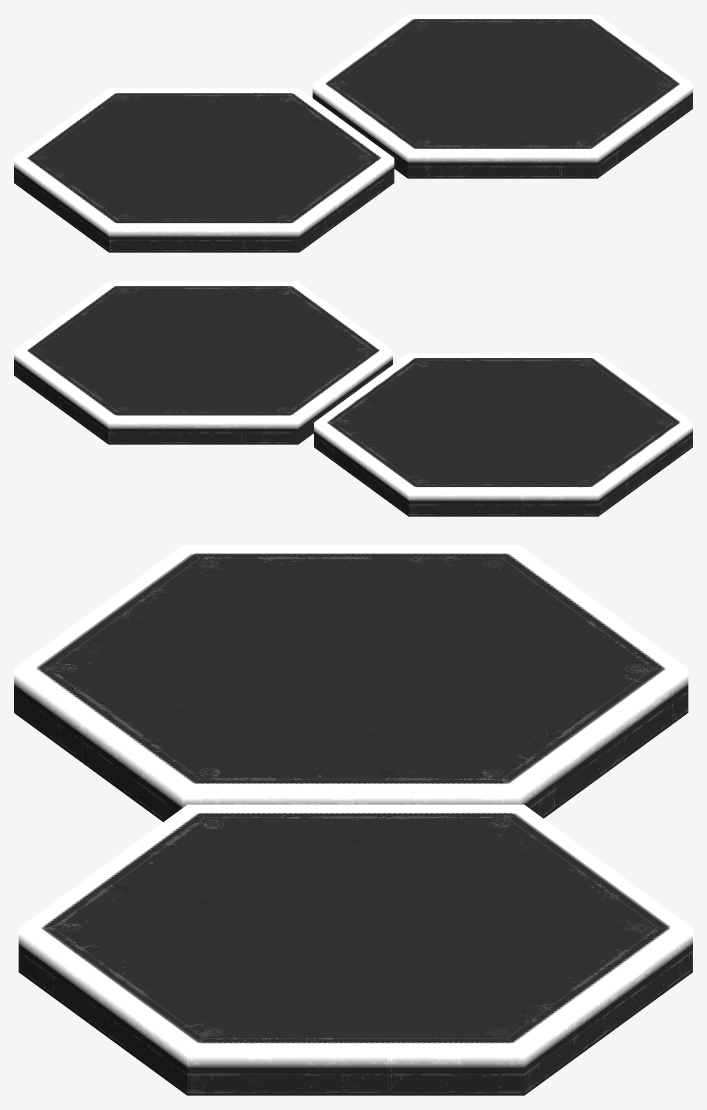
The model's file is ARC1110060.fbx.
The picture shows the model from 3 angles, top to bottom: view 1: azimuth 30°, elevation 25°; view 2: azimuth 150°, elevation 25°; view 3: azimuth 270°, elevation 25°; orthographic projection. The views are drawn at different scales.
Parts seen in each view (by area): view 1: smARC1110060; view 2: smARC1110060; view 3: smARC1110060.
Boxes of the visible parts, bbox=[...] form: smARC1110060: bbox=[14, 14, 692, 252]; smARC1110060: bbox=[14, 281, 692, 516]; smARC1110060: bbox=[14, 545, 692, 1095].
Bounding box in the file's own units: 356 × 14.52 × 202.
Materials: 1 (1 with a texture image).
